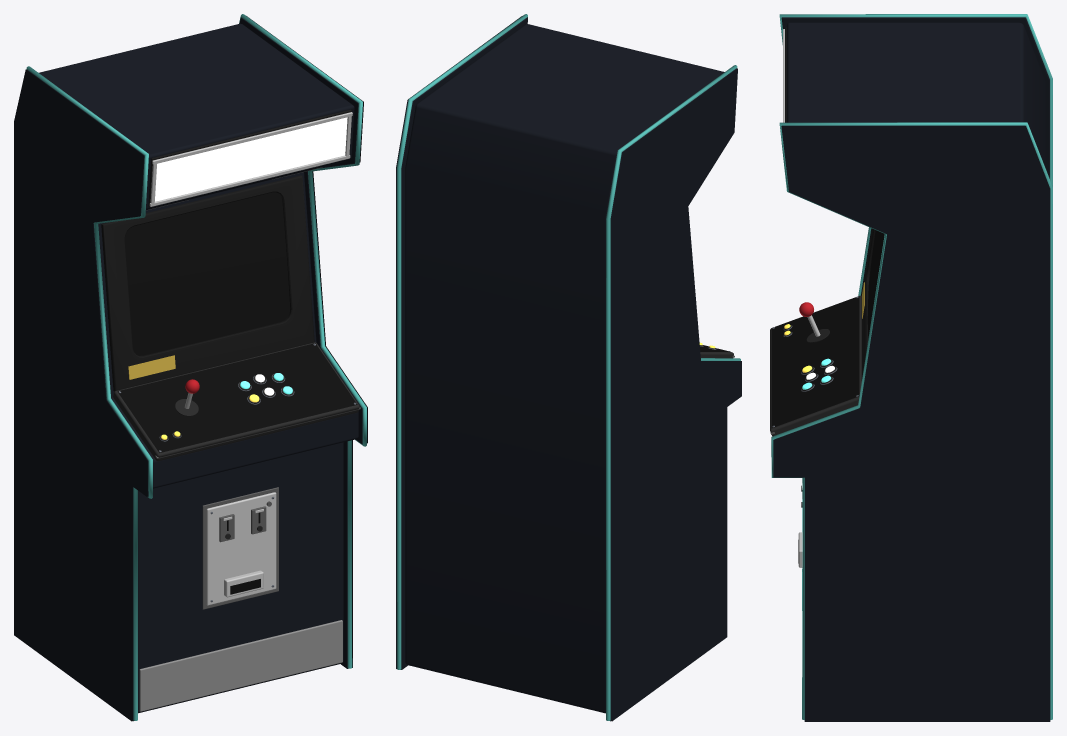
The model's file is cab-echo-frequency.glb.
3 renders of one model, left to right at view 1: azimuth 30°, elevation 25°; view 2: azimuth 150°, elevation 25°; view 3: azimuth 270°, elevation 25°, orthographic. The views are drawn at different scales.
Parts seen in each view (by area): view 1: side_art_l, body, front_art, screen, glass, controls, deck_art, metal, coin, trim, marquee, side_art_r (+1 smaller); view 2: body, side_art_l, trim, side_art_r; view 3: side_art_r, body, deck_art, trim, controls, screen, glass, joy.
Boxes of the visible parts, x1,y1,x2,y2 form: side_art_l: (14, 69, 147, 721); body: (27, 17, 362, 721); front_art: (140, 443, 341, 668); screen: (125, 192, 290, 355); glass: (125, 192, 291, 356); controls: (101, 109, 359, 461); deck_art: (117, 343, 357, 452); metal: (139, 112, 360, 711); coin: (202, 487, 278, 609); trim: (26, 14, 366, 720); marquee: (155, 117, 347, 201); side_art_r: (247, 16, 367, 667); body: (400, 17, 736, 721); side_art_l: (611, 68, 741, 721); trim: (397, 14, 740, 720); side_art_r: (396, 16, 521, 668); side_art_r: (773, 126, 1050, 721); body: (774, 17, 1049, 439); deck_art: (771, 296, 859, 427); trim: (771, 14, 1052, 719); controls: (770, 27, 875, 436); screen: (867, 230, 884, 340); glass: (866, 230, 883, 348); joy: (799, 302, 829, 342).
Size of the model in its own units: 0.763 by 1.91 by 0.8173.
